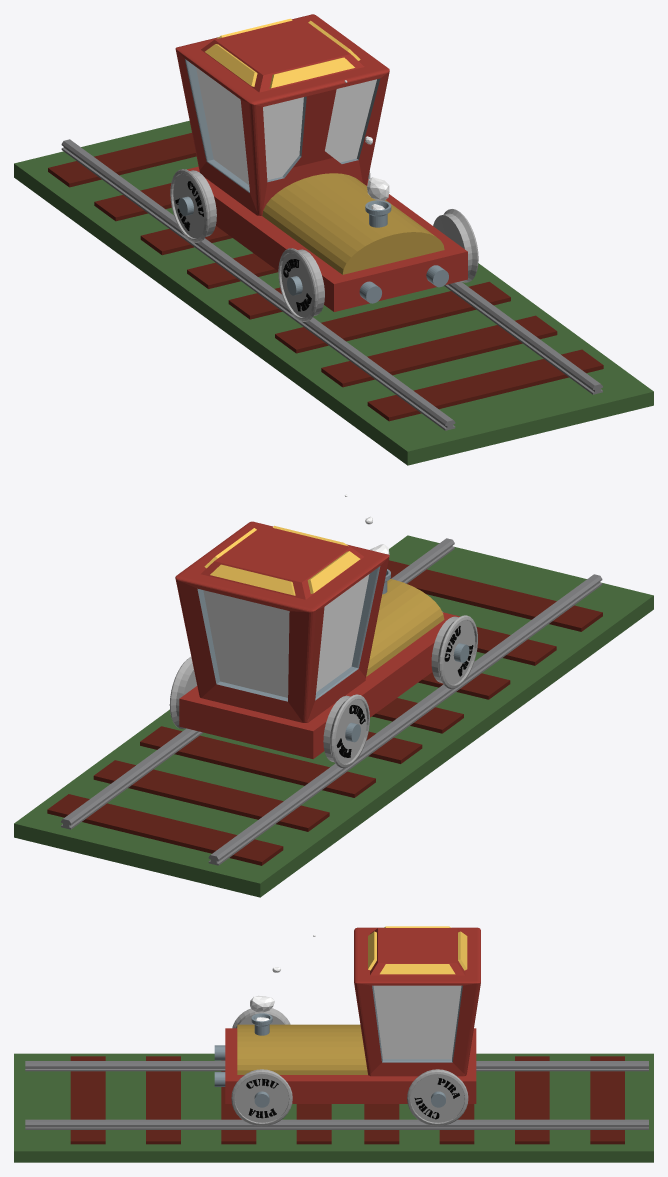
File: sampletrain.fbx
The picture shows the model from 3 angles, top to bottom: view 1: azimuth 30°, elevation 25°; view 2: azimuth 150°, elevation 25°; view 3: azimuth 270°, elevation 25°; orthographic projection. The views are drawn at different scales.
Visible parts, largest first — view 1: trenzinho; view 2: trenzinho; view 3: trenzinho.
Part boxes in pixels (x1,y1,x2,y2): trenzinho: (14,14,653,465); trenzinho: (14,521,653,897); trenzinho: (14,926,653,1162).
Size of what is drawn, in the model's own units: 184 by 157 by 510.
